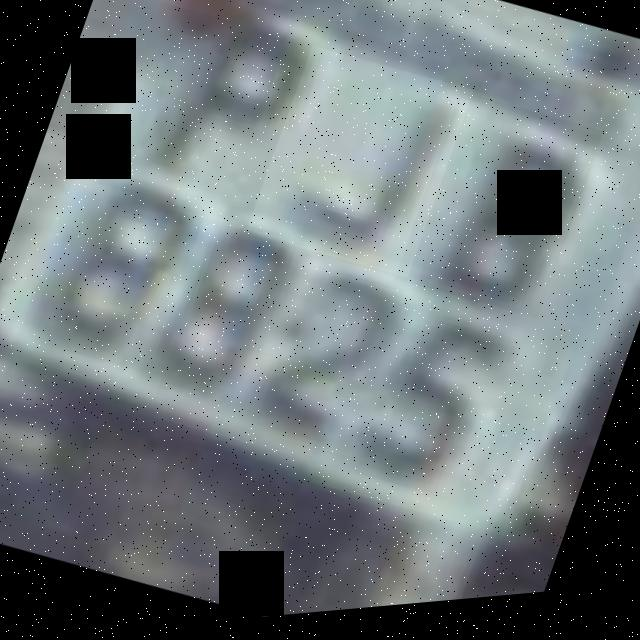2: (225, 228, 442, 482)
5: (346, 272, 548, 510)
8: (4, 147, 225, 413)
B: (394, 91, 604, 338)
J: (246, 40, 474, 296)
P: (98, 0, 312, 241)
